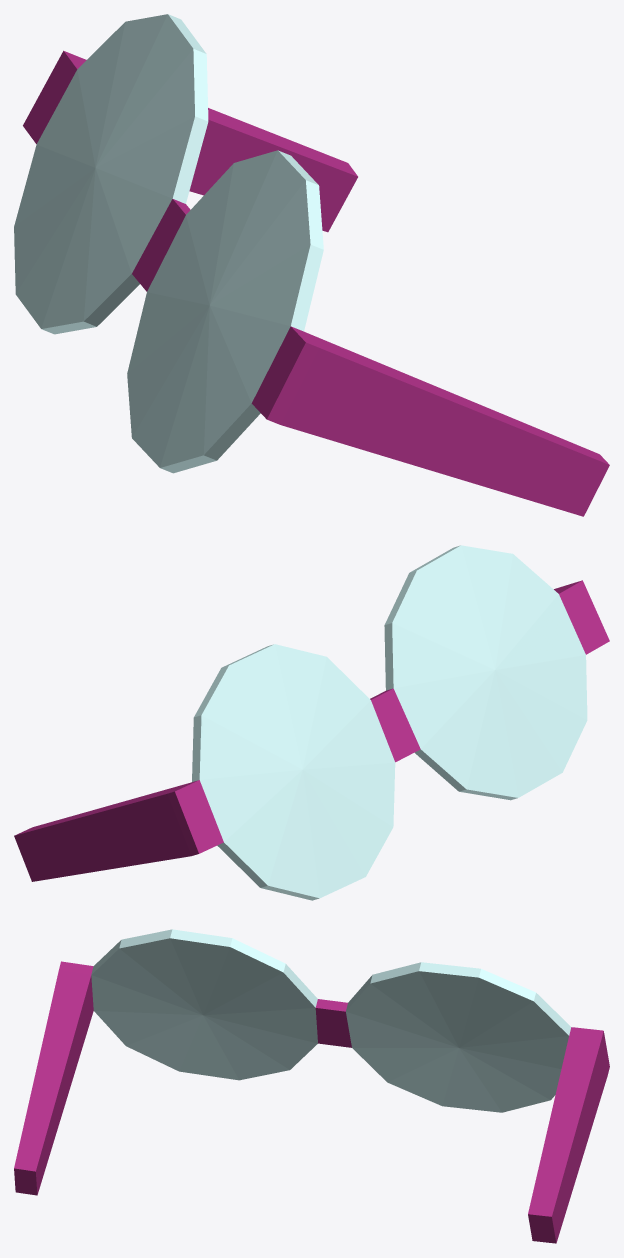
File: glasses_walk.fbx
The picture shows the model from 3 angles, top to bottom: view 1: azimuth 30°, elevation 25°; view 2: azimuth 150°, elevation 25°; view 3: azimuth 270°, elevation 25°; orthographic projection. The views are drawn at different scales.
Visible parts, largest first — view 1: Player.001; view 2: Player.001; view 3: Player.001.
Boxes of the visible parts, <box> form: Player.001: <box>14,14,609,516</box>; Player.001: <box>14,545,609,900</box>; Player.001: <box>14,929,609,1243</box>.
Bounding box in the file's own units: 114 × 74.4 × 186.
